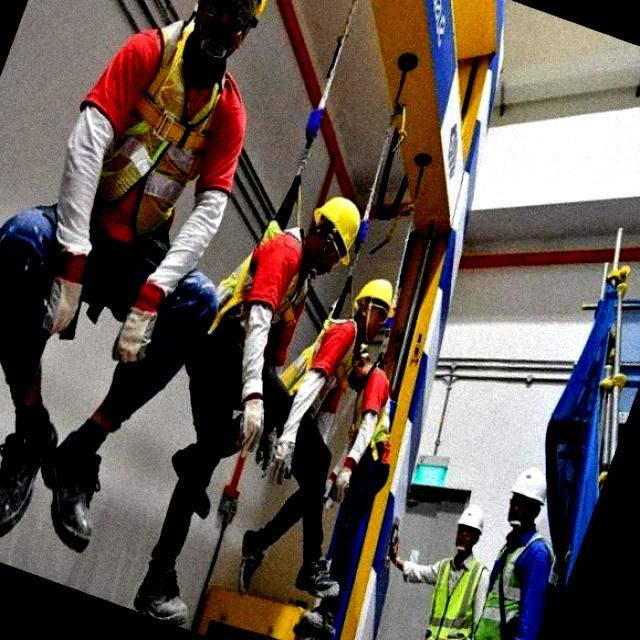Capacete: (313, 196, 360, 264), (354, 279, 392, 314), (511, 467, 546, 504), (458, 505, 483, 533)
Colete: (97, 21, 223, 233), (474, 533, 552, 639), (426, 557, 484, 639), (209, 252, 252, 332)
Oculos: (199, 0, 257, 31)
